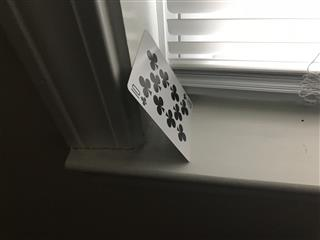TenOfClubs: (125, 29, 195, 162)
